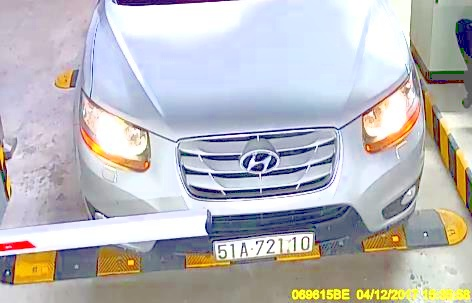plate: (215, 232, 315, 262)
